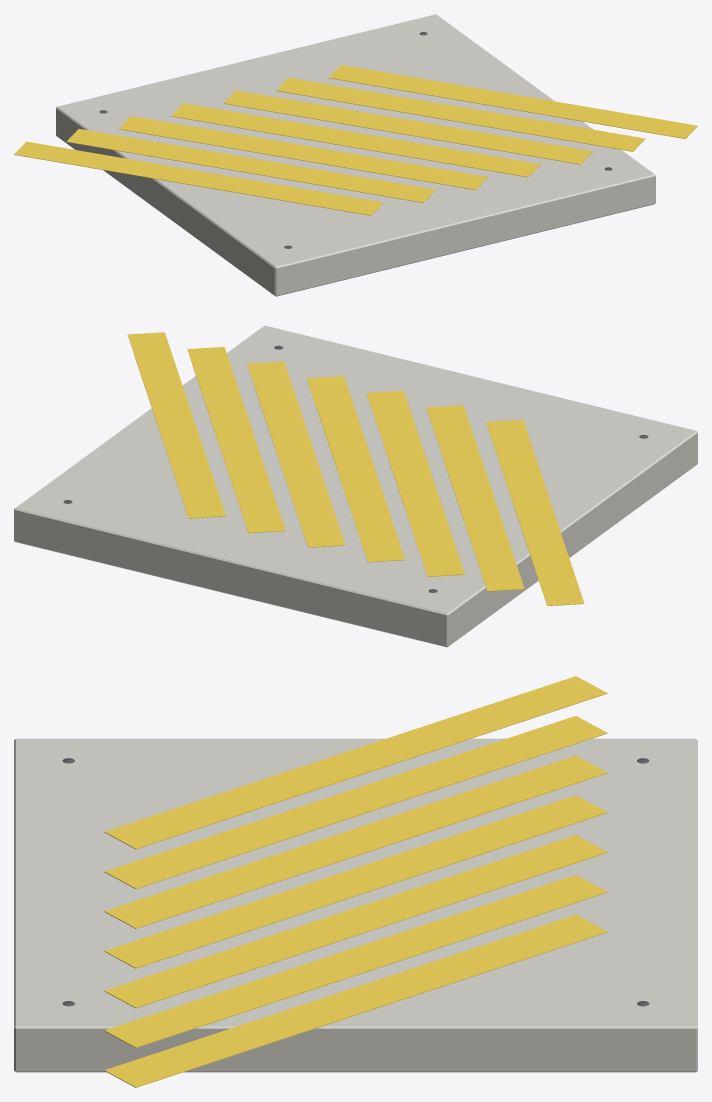
The model's file is nuclear-power-station-and-control-room-plant-floor-sla-bafb9701__36874.glb.
3 views of the same model, one above another, from view 1: azimuth 30°, elevation 25°; view 2: azimuth 150°, elevation 25°; view 3: azimuth 270°, elevation 25° (orthographic). The views are drawn at different scales.
Visible parts, largest first — view 1: plant-floor-slab-hazard-marked; view 2: plant-floor-slab-hazard-marked; view 3: plant-floor-slab-hazard-marked.
Part boxes in pixels (x1=…): plant-floor-slab-hazard-marked: x1=14, y1=14, x2=697, y2=296; plant-floor-slab-hazard-marked: x1=14, y1=325, x2=697, y2=647; plant-floor-slab-hazard-marked: x1=14, y1=676, x2=697, y2=1087.
Size of the model in its own units: 5.69 by 0.304 by 4.
